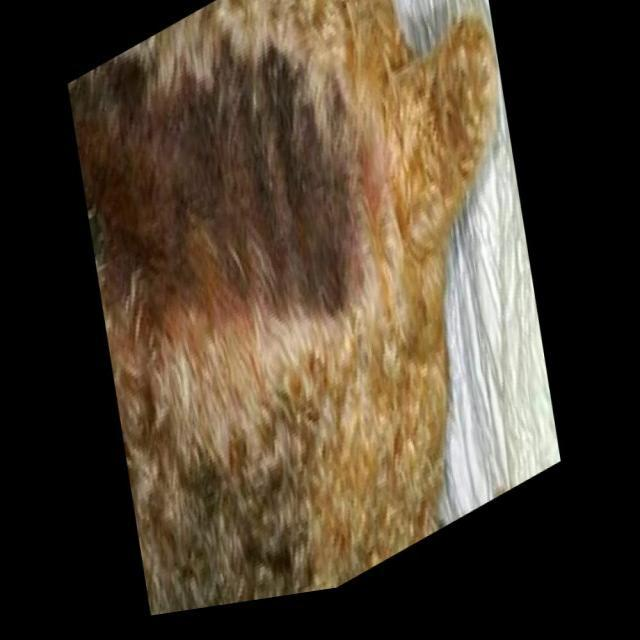allergic dermatitis: (101, 61, 350, 344)
